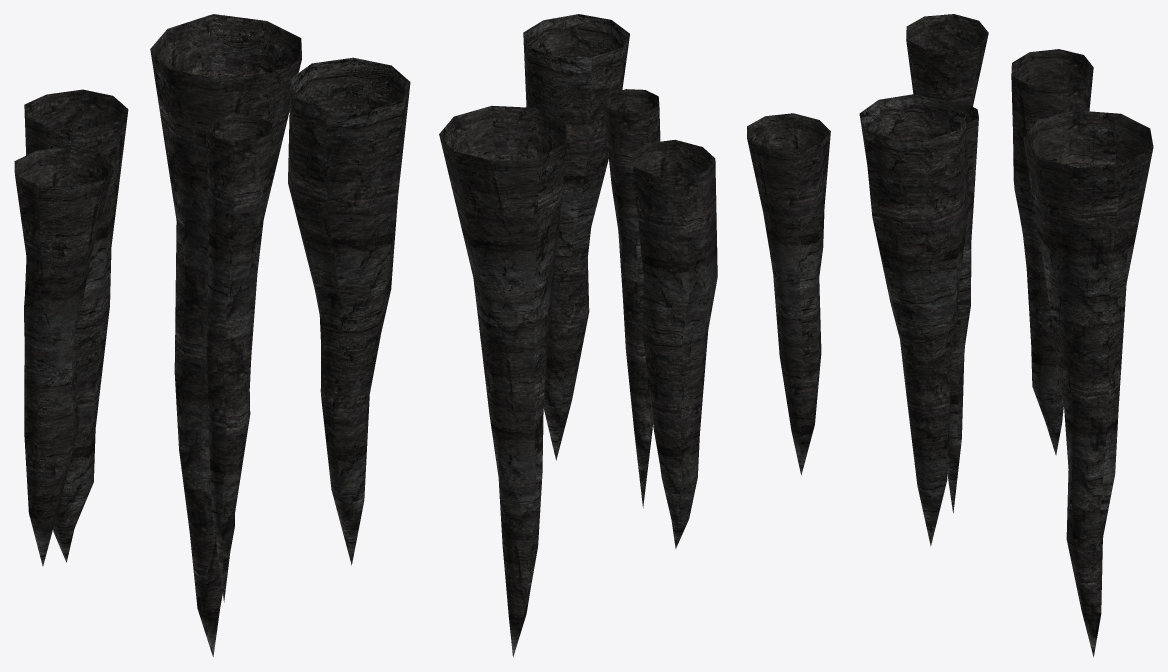
The model's file is Stalags.obj.
The picture shows the model from 3 angles, left to right: view 1: azimuth 30°, elevation 25°; view 2: azimuth 150°, elevation 25°; view 3: azimuth 270°, elevation 25°; orthographic projection. The views are drawn at different scales.
Visible parts, largest first — view 1: stalags_5_low.002_Cylinder.049; view 2: stalags_5_low.002_Cylinder.049; view 3: stalags_5_low.002_Cylinder.049.
Part boxes in pixels (x1,y1,x2,y2): stalags_5_low.002_Cylinder.049: [14, 14, 410, 656]; stalags_5_low.002_Cylinder.049: [439, 14, 830, 657]; stalags_5_low.002_Cylinder.049: [859, 14, 1153, 657].
Size of the model in its own units: 2.74 by 4.65 by 2.24.
